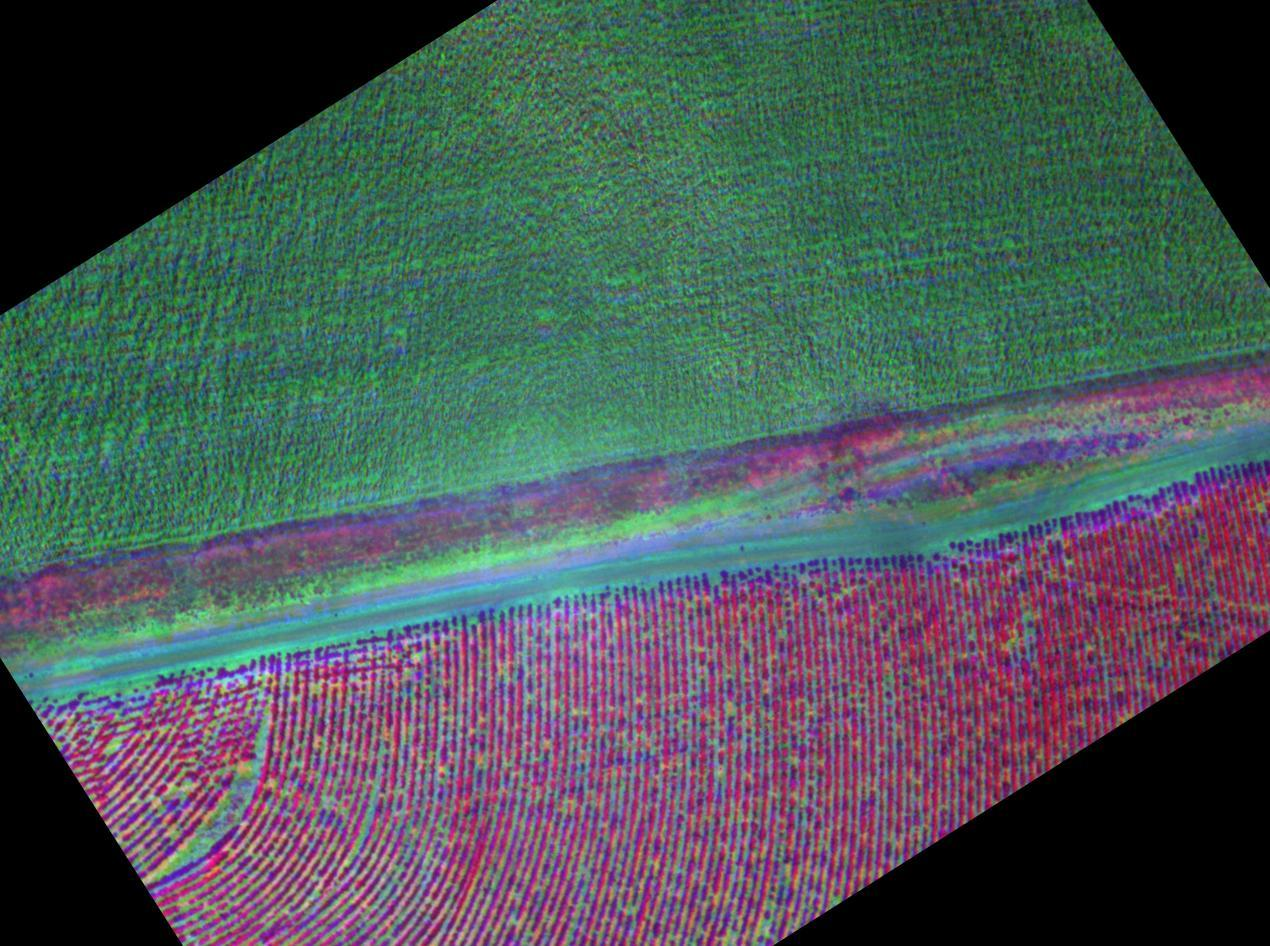dc: (143, 718, 280, 885), (346, 735, 400, 880), (48, 695, 133, 759), (706, 888, 779, 946), (1001, 605, 1044, 669)
